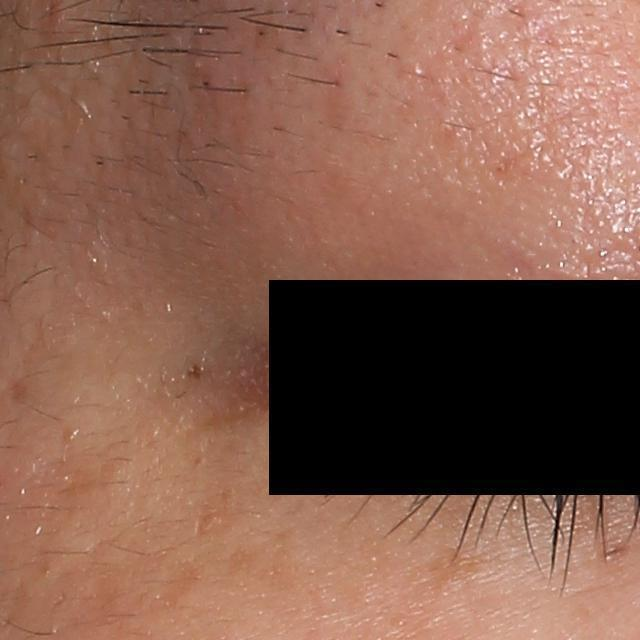melasma: (229, 526, 302, 603), (407, 544, 489, 598), (157, 559, 204, 618), (190, 490, 239, 546)
